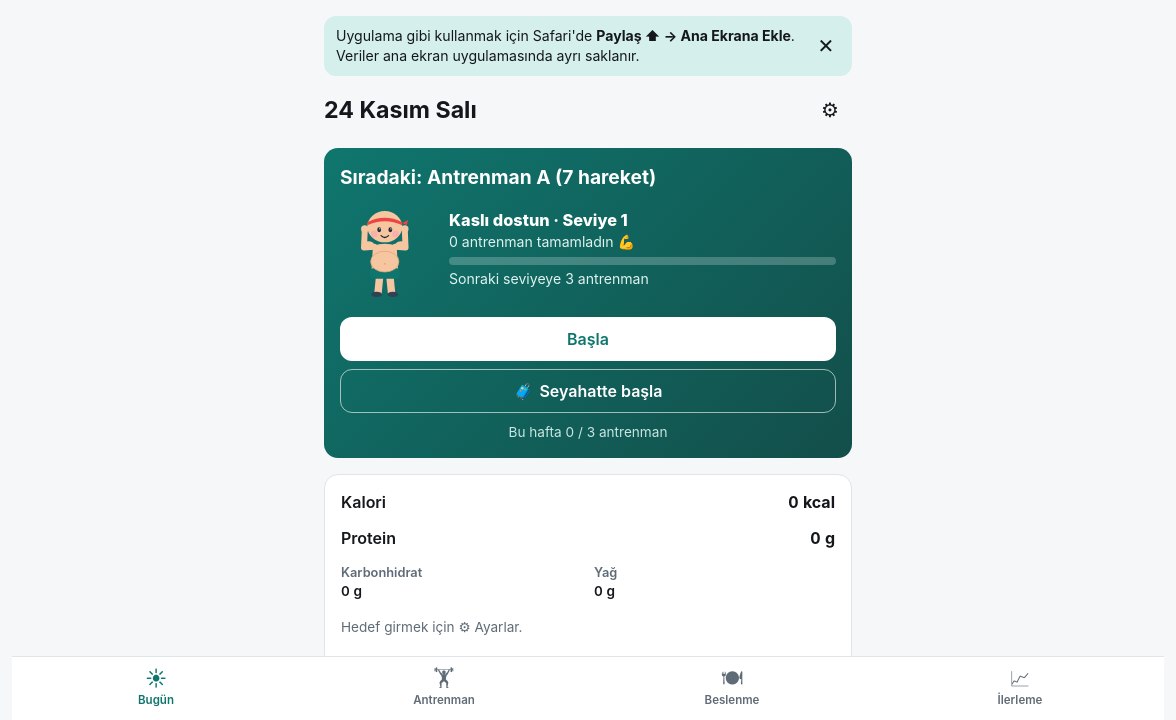
Scenario: Bugün ekranındaki ⚙ ayarları açar, Kapat geri döner
What coordinates should you click on to do the following:
click the button named "Ayarlar"
I would click on:
 (830, 110)
Its box is x1=808 y1=88 x2=852 y2=132.
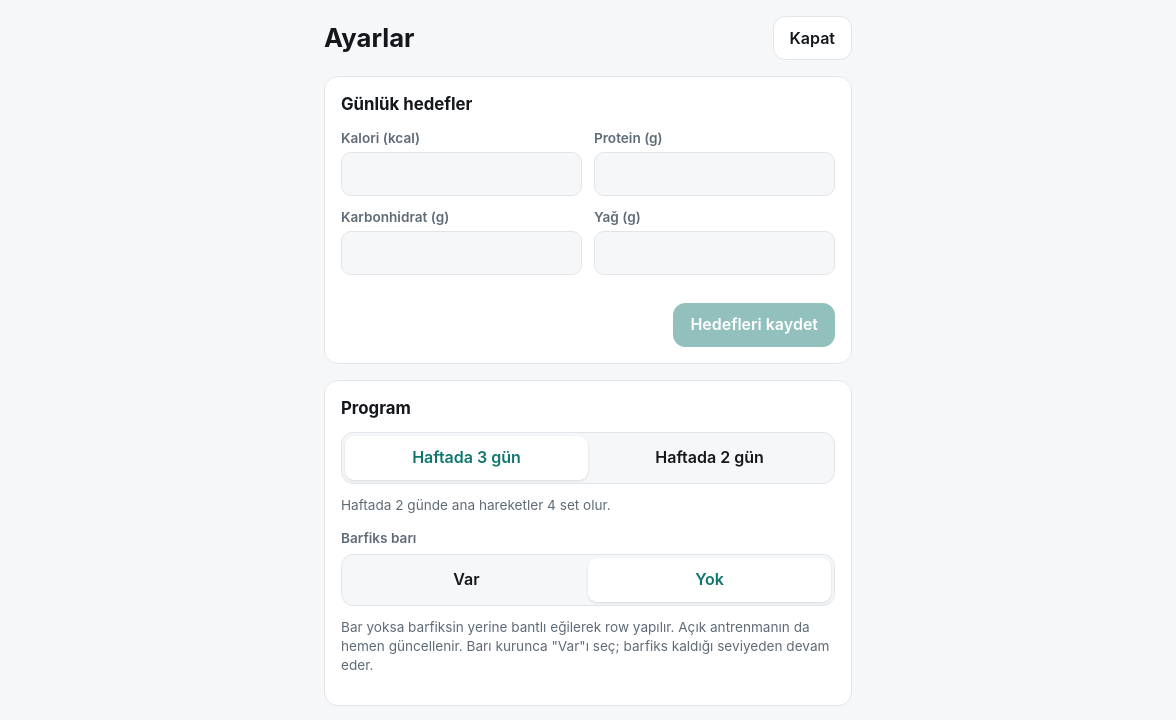
Now the heading "Ayarlar" is shown, box x1=324 y1=20 x2=414 y2=56
What coordinates should you click on to do the following:
click the button "Kapat"
I would click on:
 (812, 38)
Its box is x1=773 y1=16 x2=852 y2=60.
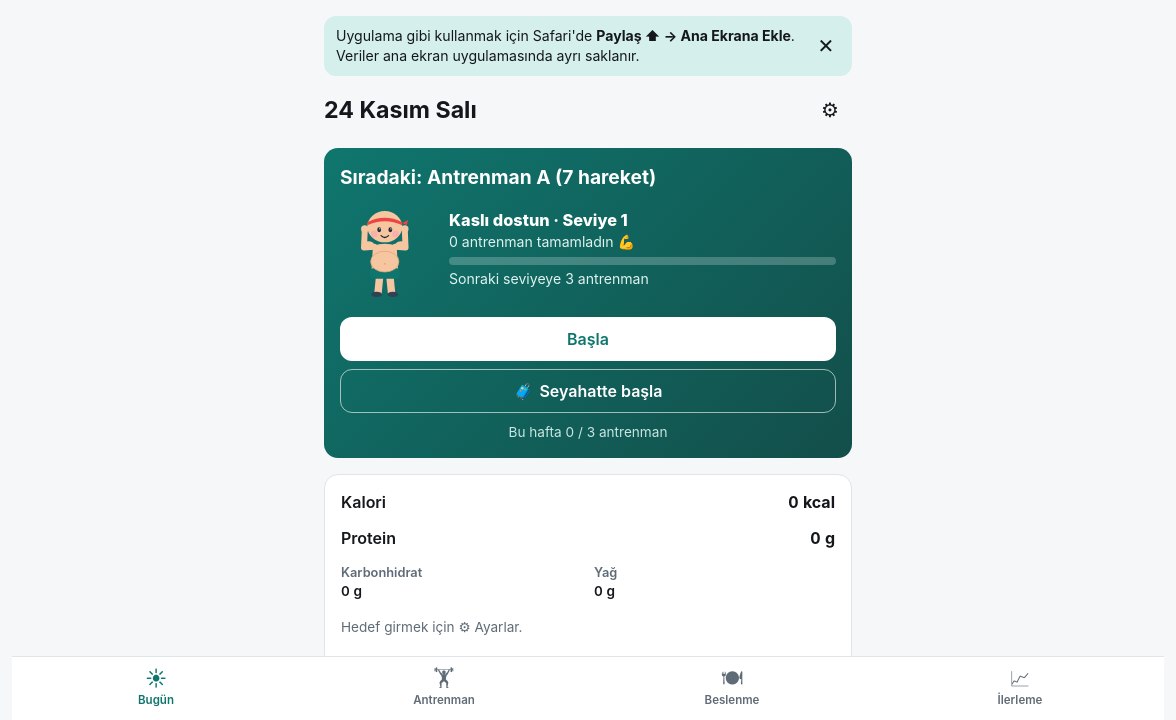
Now the navigation bar is shown, box x1=12 y1=656 x2=1164 y2=719
